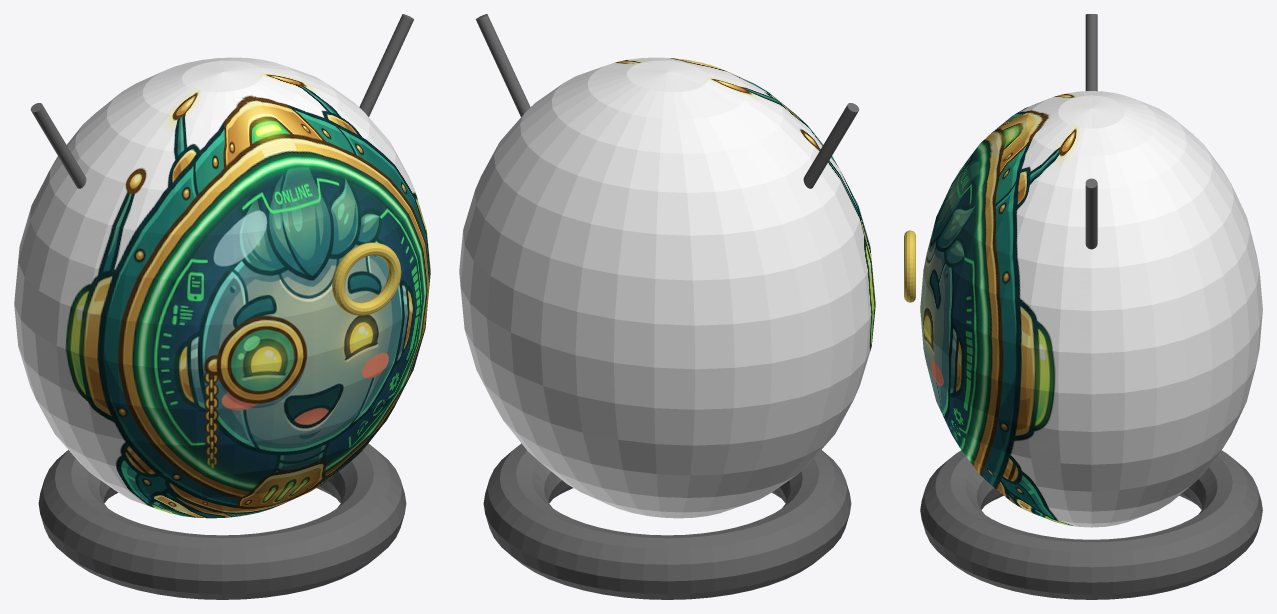
Rendered from accountant_v9_robot.glb.
3 renders of one model, left to right at view 1: azimuth 30°, elevation 25°; view 2: azimuth 150°, elevation 25°; view 3: azimuth 270°, elevation 25°, orthographic. The views are drawn at different scales.
Parts seen in each view (by area): view 1: Robot_Head, Torus.001, Torus, Cylinder.001, Cylinder; view 2: Robot_Head, Torus.001, Cylinder.001, Cylinder; view 3: Robot_Head, Torus.001, Cylinder, Cylinder.001, Torus.
Boxes of the visible parts, <box> form: Robot_Head: <box>14,57,430,518</box>; Torus.001: <box>38,443,406,599</box>; Torus: <box>332,242,401,315</box>; Cylinder.001: <box>359,14,413,116</box>; Cylinder: <box>30,103,86,188</box>; Robot_Head: <box>459,57,875,518</box>; Torus.001: <box>483,443,851,599</box>; Cylinder.001: <box>476,14,530,116</box>; Cylinder: <box>803,103,859,188</box>; Robot_Head: <box>920,91,1262,527</box>; Torus.001: <box>920,450,1262,599</box>; Cylinder: <box>1085,14,1097,91</box>; Cylinder.001: <box>1085,178,1097,249</box>; Torus: <box>904,230,915,302</box>.
Size of the model in its own units: 2.04 by 2.42 by 1.78.
4 materials, 1 textured.
